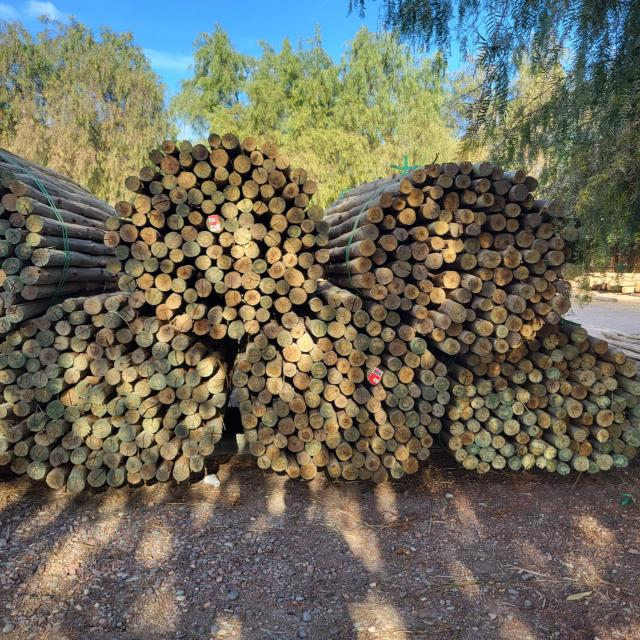package: (102, 133, 331, 339), (2, 302, 226, 494), (356, 162, 569, 350), (237, 294, 449, 476), (450, 328, 630, 471), (0, 153, 51, 338)
